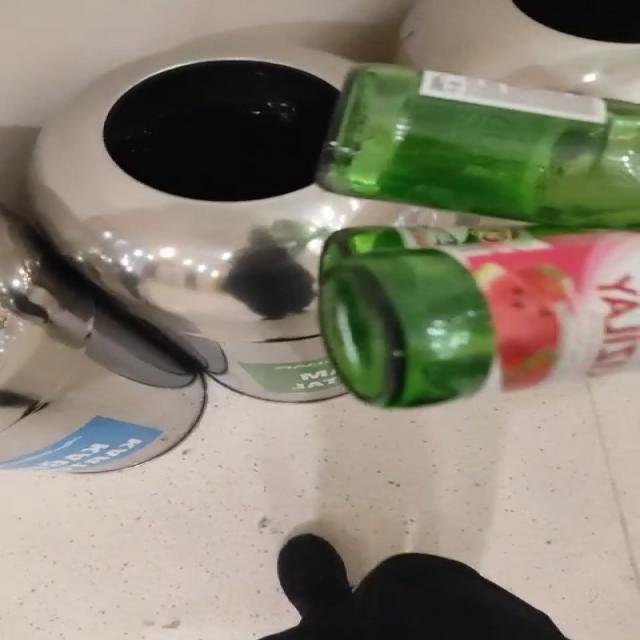glass: (317, 66, 639, 408)
